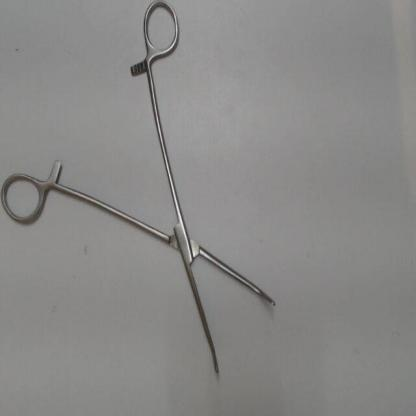Lahey Forceps: (1, 1, 286, 380)
